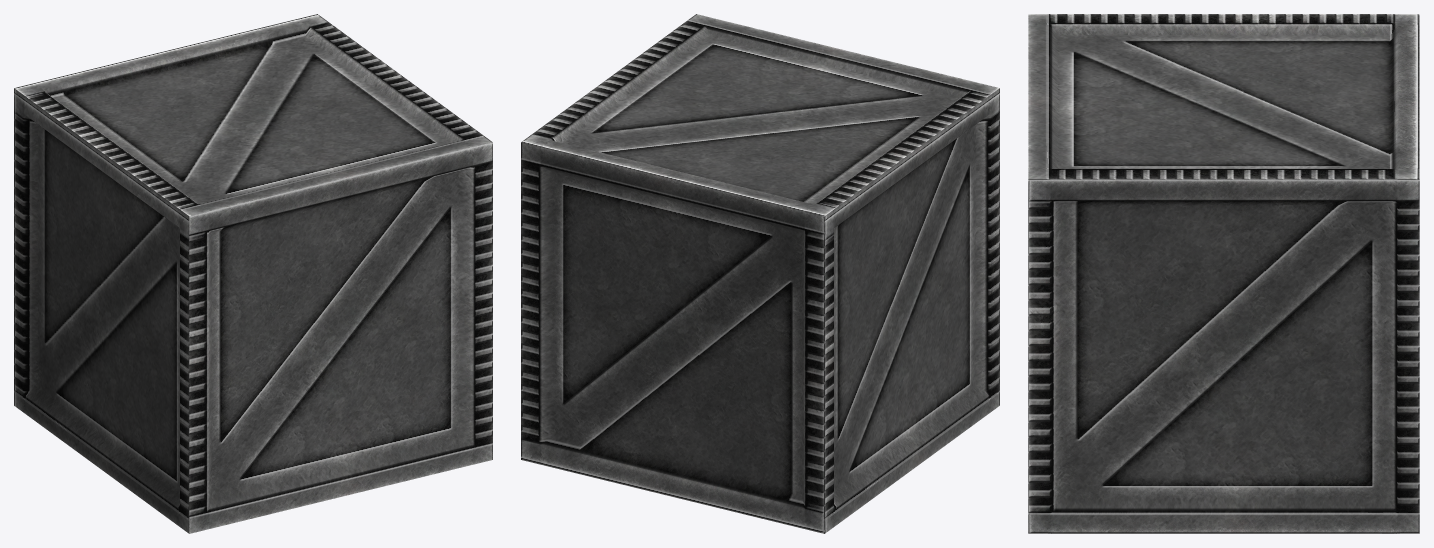
Rendered from large_box.fbx.
3 views of the same model, side by side, from view 1: azimuth 30°, elevation 25°; view 2: azimuth 150°, elevation 25°; view 3: azimuth 270°, elevation 25° (orthographic). The views are drawn at different scales.
Parts seen in each view (by area): view 1: Large_Box; view 2: Large_Box; view 3: Large_Box.
Part boxes in pixels (x1,y1,x2,y2): Large_Box: (14,14,492,533); Large_Box: (521,14,999,533); Large_Box: (1028,14,1419,533).
Bounding box in the file's own units: 2 × 2 × 2.
